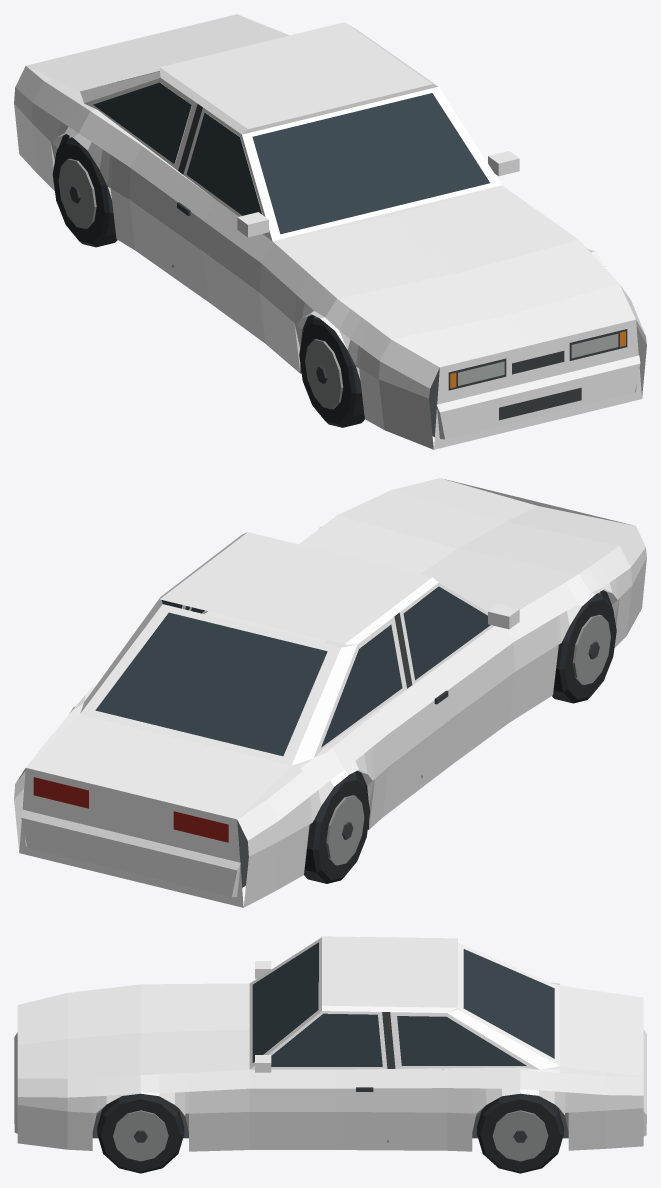
The model's file is garrison_boxcar.glb.
3 renders of one model, top to bottom at view 1: azimuth 30°, elevation 25°; view 2: azimuth 150°, elevation 25°; view 3: azimuth 270°, elevation 25°, orthographic. The views are drawn at different scales.
Visible parts, largest first — view 1: garrison_boxcar; view 2: garrison_boxcar; view 3: garrison_boxcar.
Boxes of the visible parts, x1,y1,x2,y2 form: garrison_boxcar: [14, 14, 646, 449]; garrison_boxcar: [14, 478, 646, 907]; garrison_boxcar: [14, 936, 646, 1173].
Size of the model in its own units: 1.82 by 1.26 by 4.7.
Materials: 8 (1 with a texture image).
